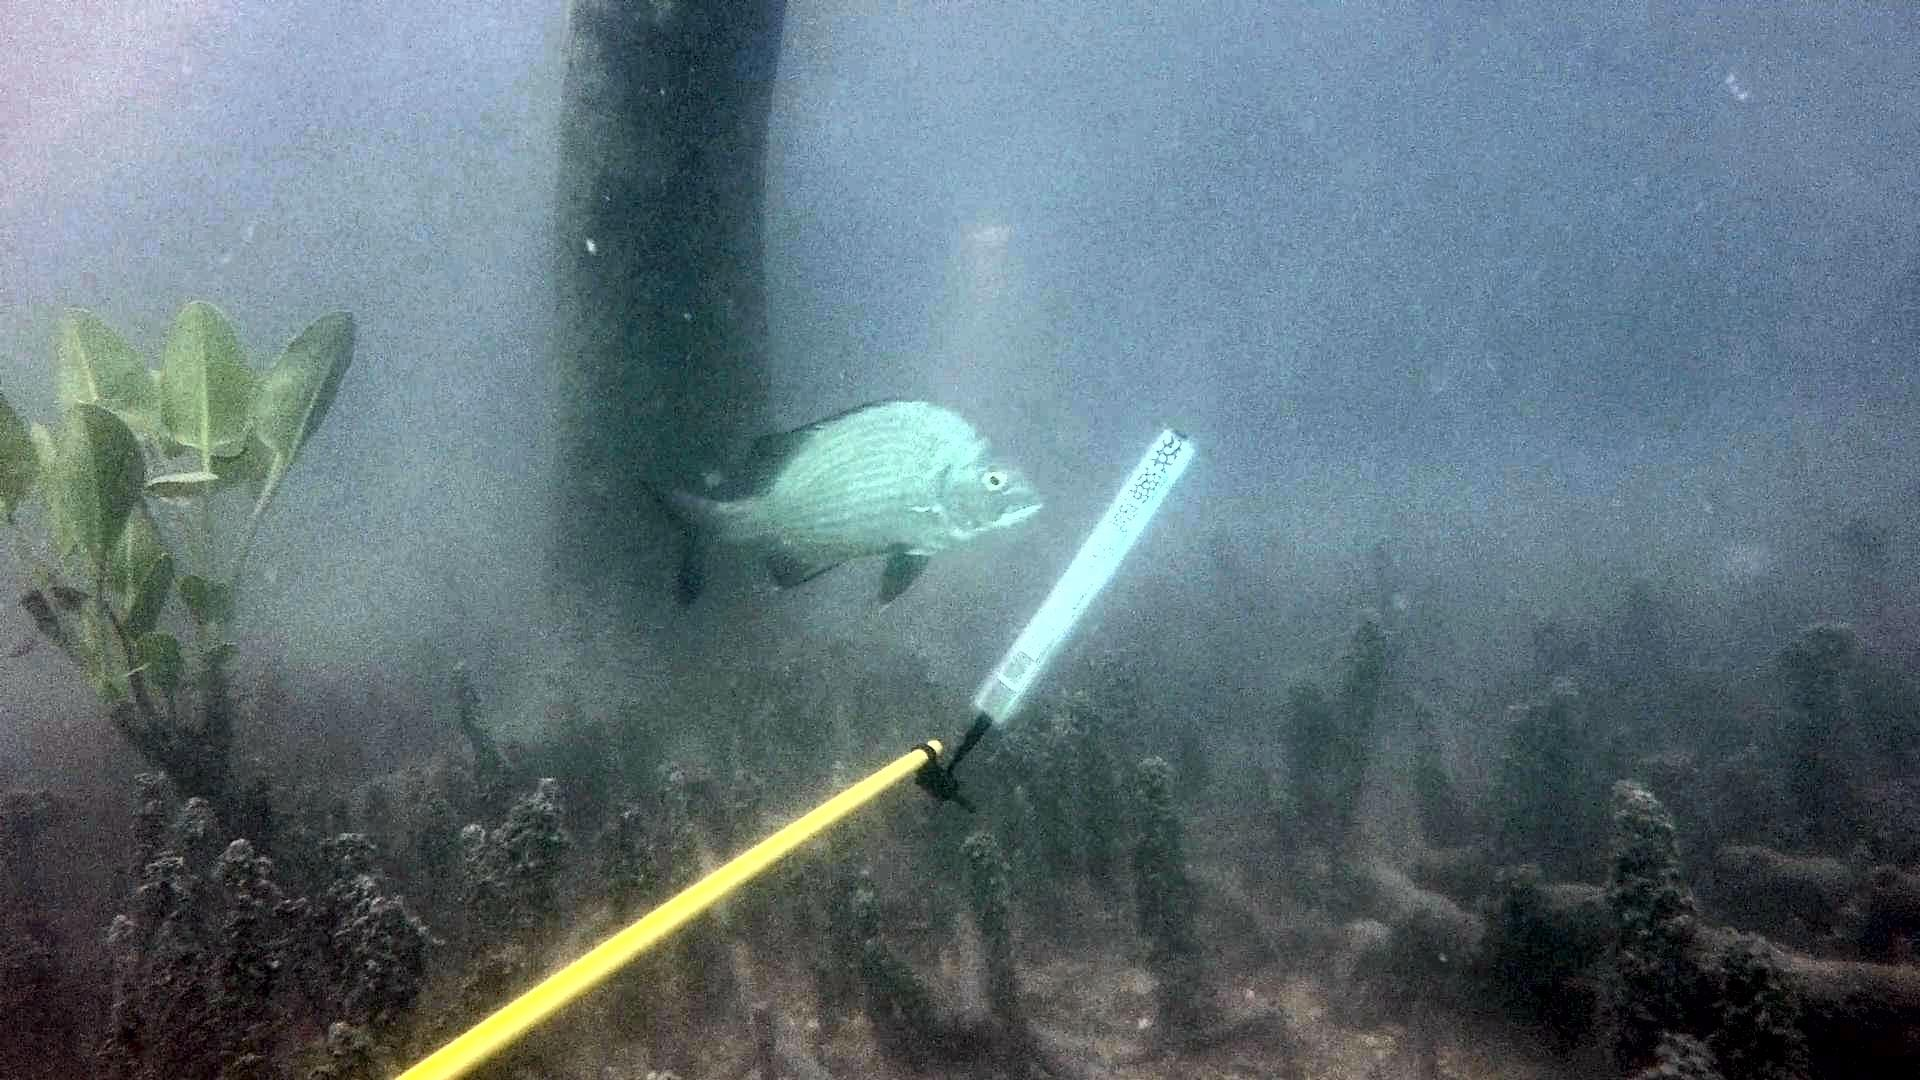acanthopagrus palmaris: (621, 386, 1061, 628)
